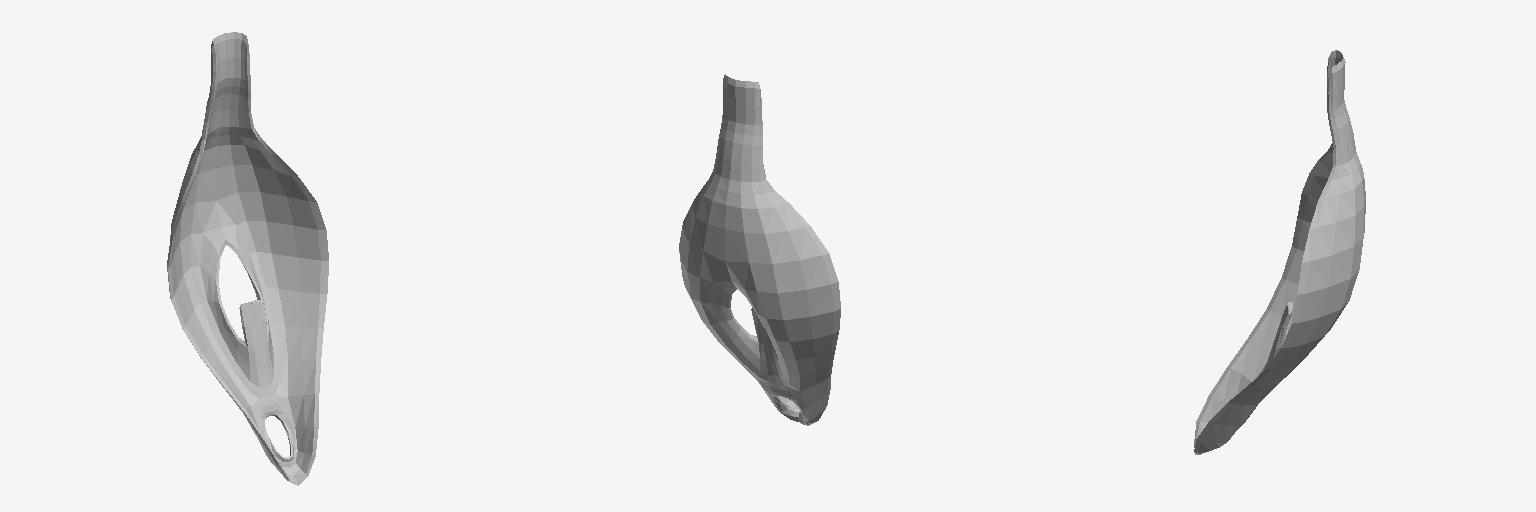
File: Connective.Ligaments.Superficial_dorsal_sacrococcygeal.obj
3 views of the same model, side by side, from view 1: azimuth 30°, elevation 25°; view 2: azimuth 150°, elevation 25°; view 3: azimuth 270°, elevation 25° (orthographic).
Visible parts, largest first — view 1: Connective:Ligaments:Superficial_dorsal_sacrococcygeal_Ligaments; view 2: Connective:Ligaments:Superficial_dorsal_sacrococcygeal_Ligaments; view 3: Connective:Ligaments:Superficial_dorsal_sacrococcygeal_Ligaments.
Boxes of the visible parts, box(x1,y1,x2,y2) form: Connective:Ligaments:Superficial_dorsal_sacrococcygeal_Ligaments: box(167, 32, 328, 485); Connective:Ligaments:Superficial_dorsal_sacrococcygeal_Ligaments: box(679, 74, 840, 425); Connective:Ligaments:Superficial_dorsal_sacrococcygeal_Ligaments: box(1194, 50, 1365, 454).
Size of the model in its own units: 0.1999 by 0.4802 by 0.1878.